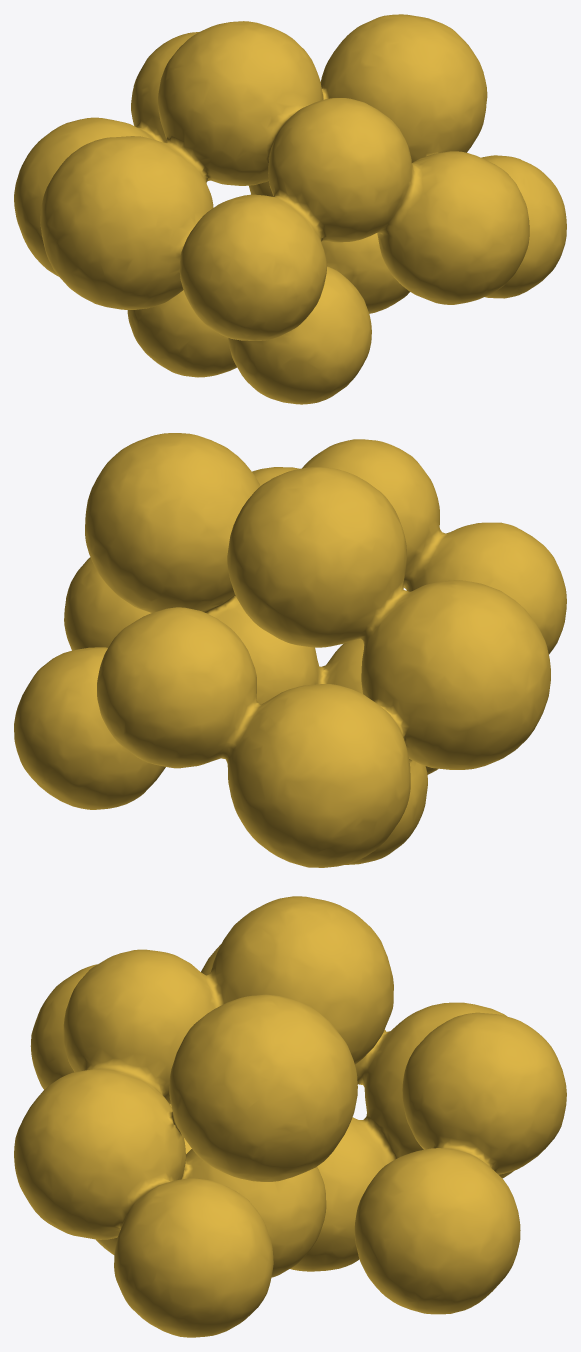
File: coccus-bacteria.glb
3 views of the same model, one above another, from view 1: azimuth 30°, elevation 25°; view 2: azimuth 150°, elevation 25°; view 3: azimuth 270°, elevation 25° (orthographic). The views are drawn at different scales.
Parts seen in each view (by area): view 1: Coccus_Bacteria; view 2: Coccus_Bacteria; view 3: Coccus_Bacteria.
Part boxes in pixels (x1,y1,x2,y2): Coccus_Bacteria: (14,14,566,404); Coccus_Bacteria: (14,433,566,867); Coccus_Bacteria: (14,896,566,1337).
Size of the model in its own units: 0.454 by 0.3148 by 0.4181.
